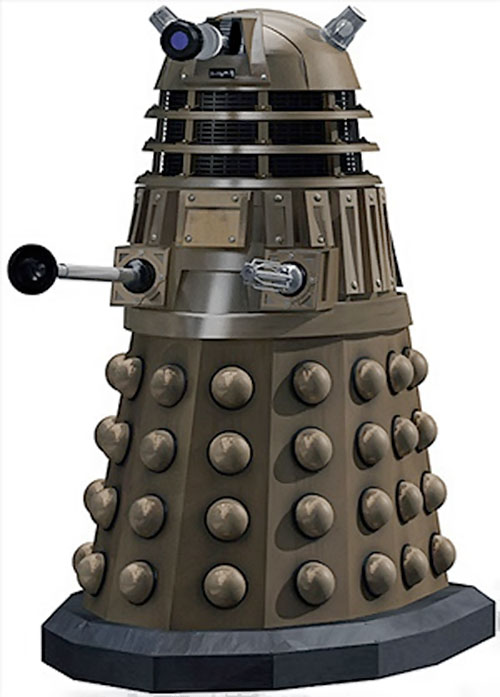dalek: (63, 0, 491, 658)
